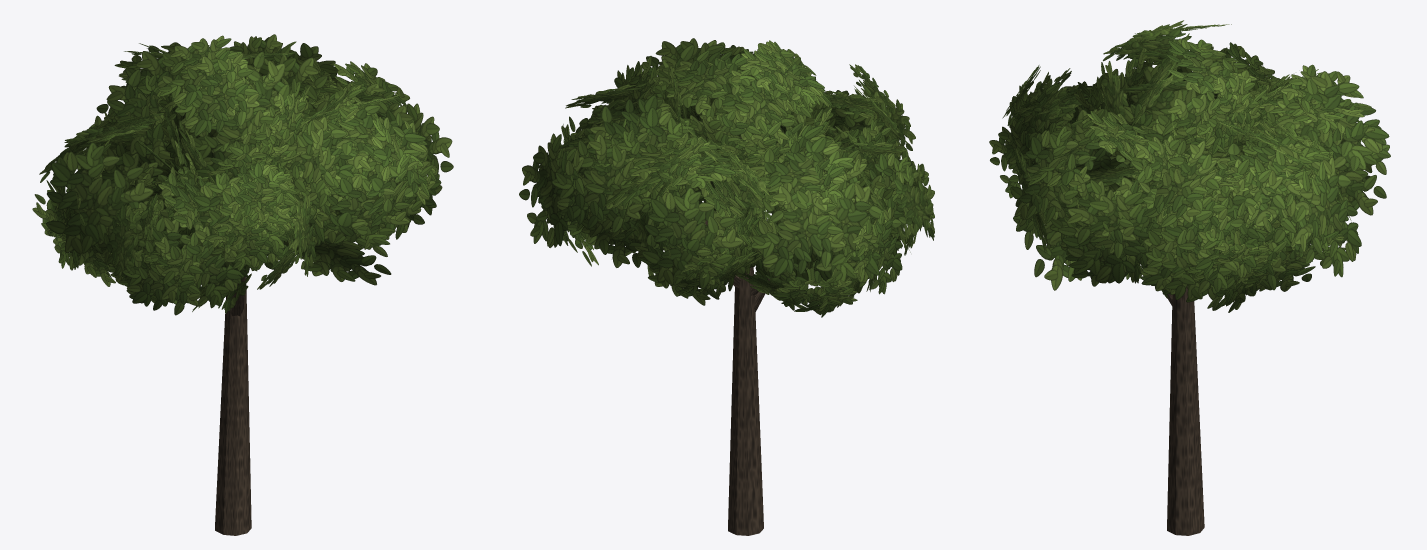
Rendered from quercia_1.glb.
The picture shows the model from 3 angles, left to right: view 1: azimuth 30°, elevation 25°; view 2: azimuth 150°, elevation 25°; view 3: azimuth 270°, elevation 25°; orthographic projection. The views are drawn at different scales.
Visible parts, largest first — view 1: quercia_1; view 2: quercia_1; view 3: quercia_1.
Part boxes in pixels (x1,y1,x2,y2): quercia_1: (32, 34, 453, 535); quercia_1: (519, 38, 934, 535); quercia_1: (989, 20, 1390, 535).
Size of the model in its own units: 9.95 by 11.95 by 9.22.
2 materials, 2 textured.
